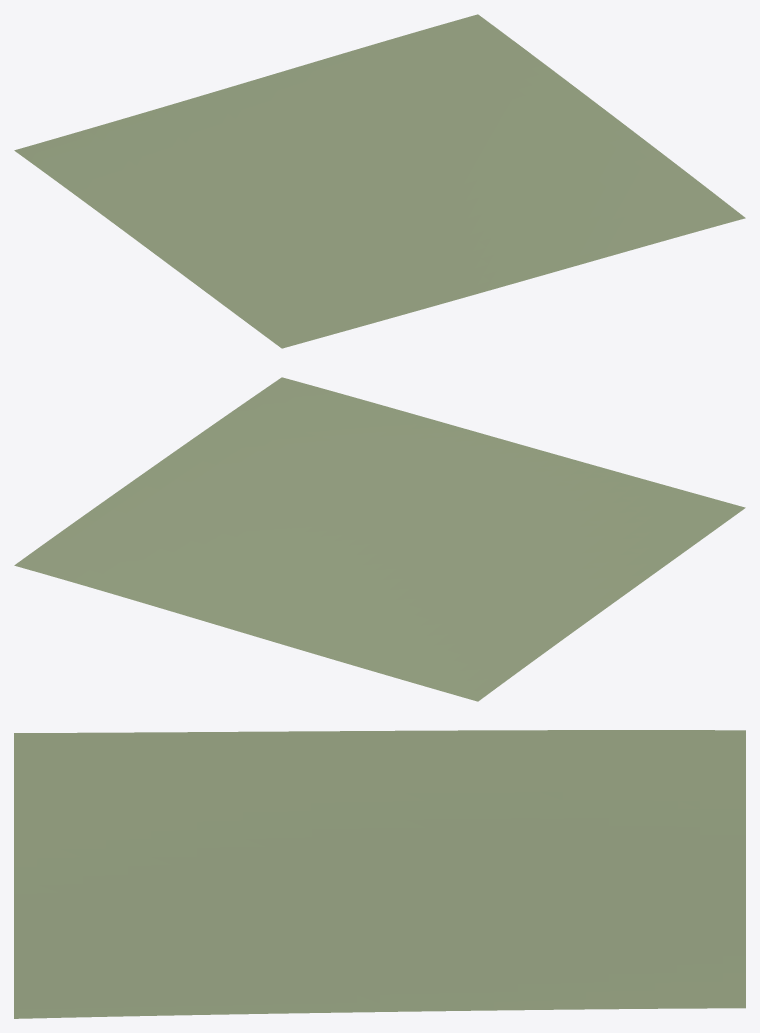
The model's file is desert-20-7.glb.
3 views of the same model, one above another, from view 1: azimuth 30°, elevation 25°; view 2: azimuth 150°, elevation 25°; view 3: azimuth 270°, elevation 25° (orthographic). The views are drawn at different scales.
Parts seen in each view (by area): view 1: desert-20-7; view 2: desert-20-7; view 3: desert-20-7.
Part boxes in pixels (x1=…): desert-20-7: x1=14, y1=14, x2=745, y2=348; desert-20-7: x1=14, y1=377, x2=745, y2=701; desert-20-7: x1=14, y1=730, x2=745, y2=1018.
Bounding box in the file's own units: 512 × 26.4 × 512.
